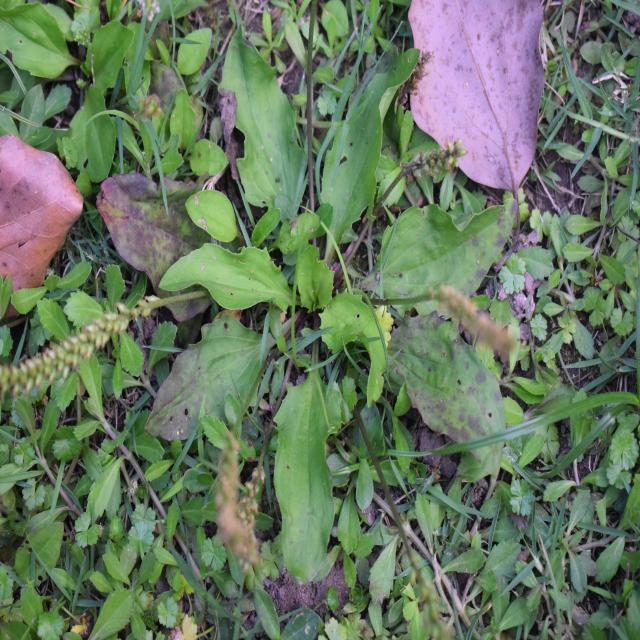plantain: (132, 41, 496, 529)
